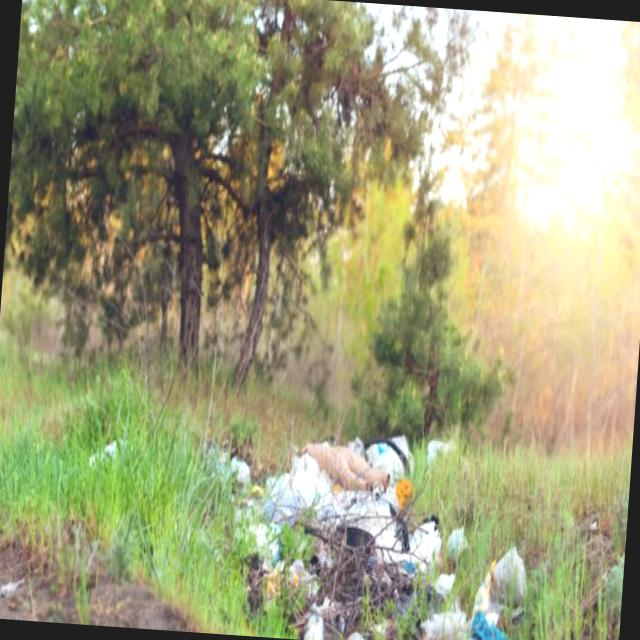garbage: (166, 408, 552, 640)
